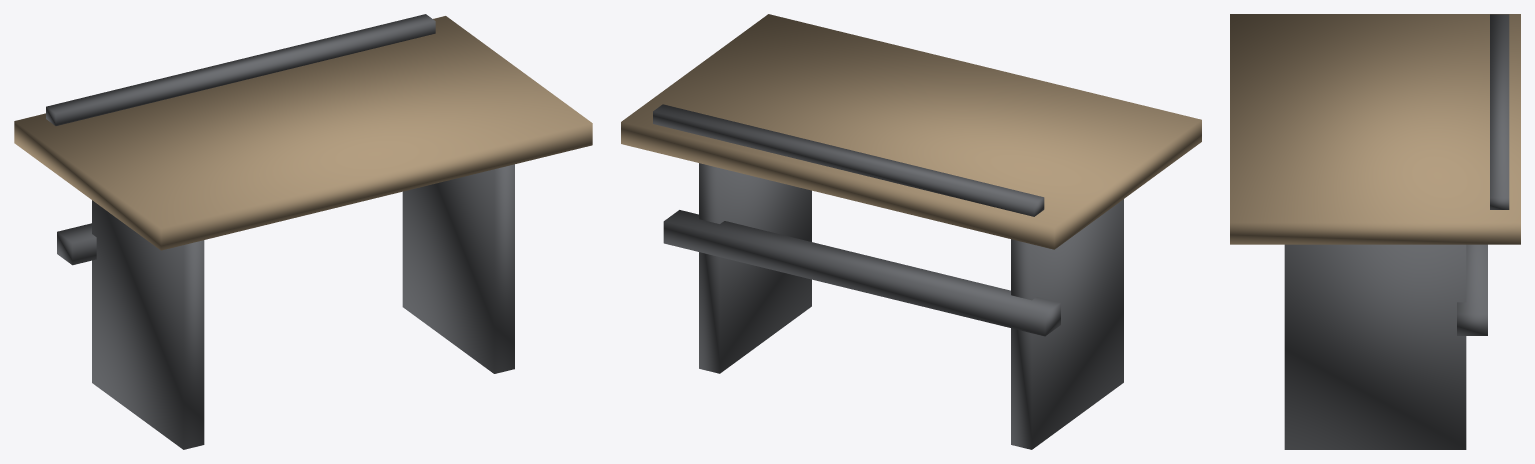
File: drafting_table__squat.glb
3 views of the same model, side by side, from view 1: azimuth 30°, elevation 25°; view 2: azimuth 150°, elevation 25°; view 3: azimuth 270°, elevation 25° (orthographic).
Visible parts, largest first — view 1: world; view 2: world; view 3: world.
Part boxes in pixels (x1,y1,x2,y2): world: (14,14,592,449); world: (621,14,1201,449); world: (1230,14,1520,449).
Bounding box in the file's own units: 1.38 × 0.8106 × 0.81.
